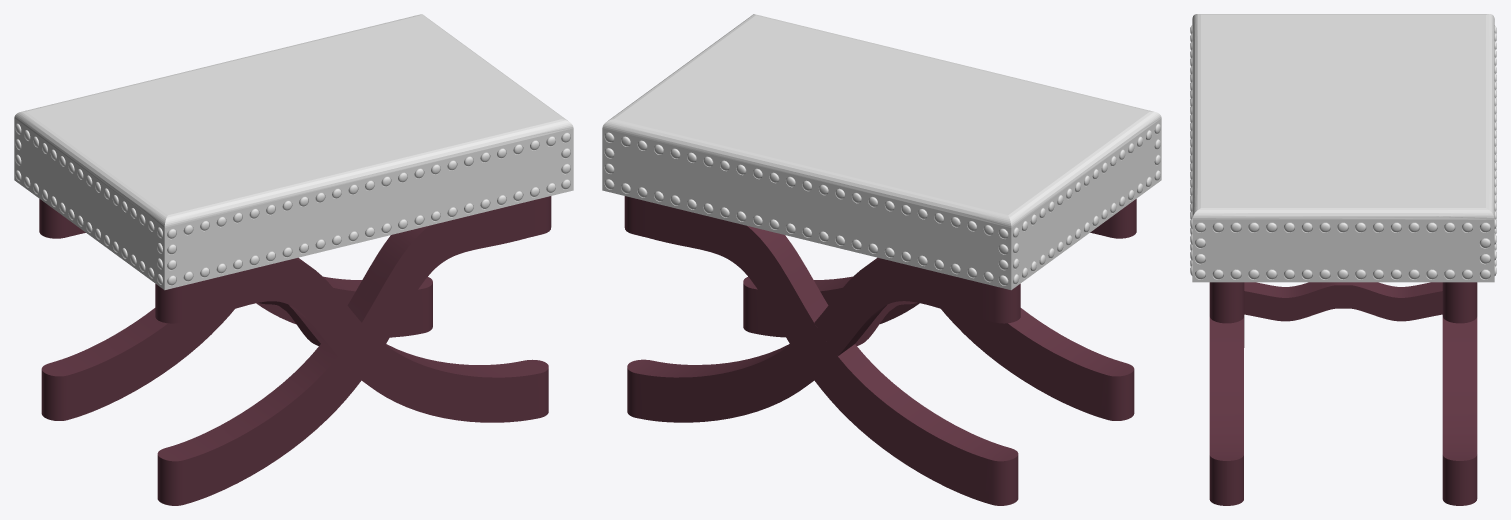
File: aideeDeskChair2.glb
3 renders of one model, left to right at view 1: azimuth 30°, elevation 25°; view 2: azimuth 150°, elevation 25°; view 3: azimuth 270°, elevation 25°, orthographic.
Visible parts, largest first — view 1: Seat, Legs, Rivets; view 2: Seat, Legs, Rivets; view 3: Seat, Legs, Rivets.
Boxes of the visible parts, left/top/right/bottom form: Seat: left=14, top=14, right=573, bottom=290; Legs: left=39, top=196, right=551, bottom=505; Rivets: left=15, top=123, right=570, bottom=285; Seat: left=602, top=14, right=1161, bottom=290; Legs: left=624, top=196, right=1136, bottom=505; Rivets: left=604, top=123, right=1160, bottom=285; Seat: left=1192, top=14, right=1494, bottom=282; Legs: left=1209, top=282, right=1477, bottom=505; Rivets: left=1190, top=25, right=1496, bottom=279.
Size of the model in its own units: 1.39 by 0.9567 by 0.8872.
